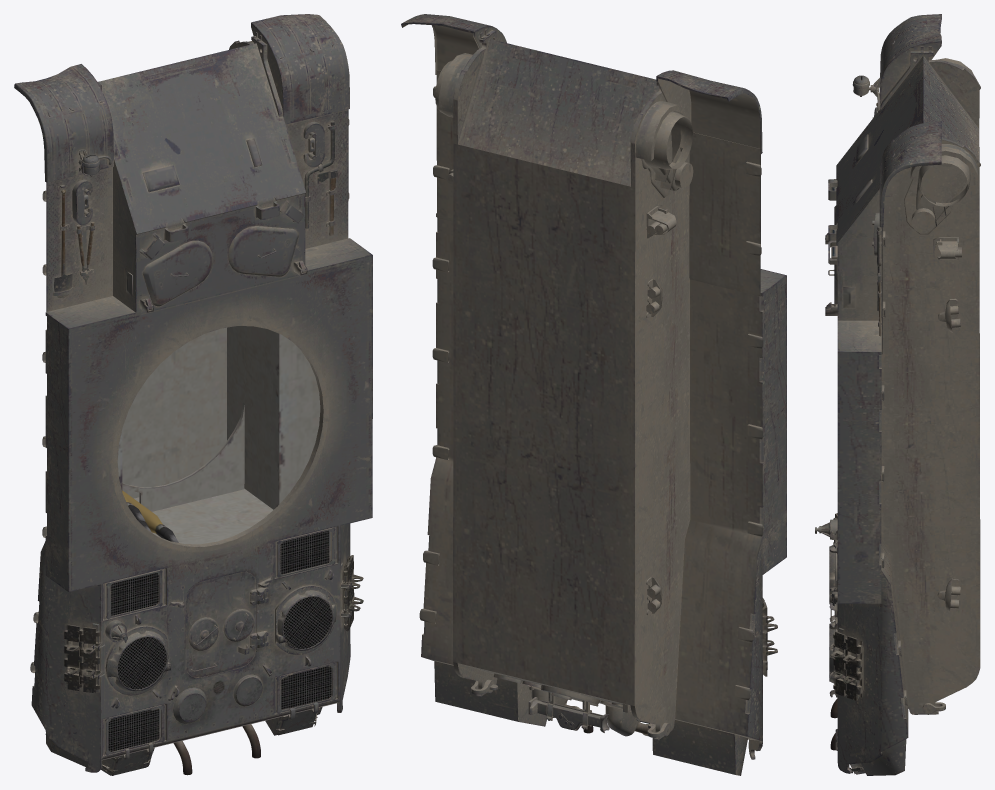
The model's file is Hull.glb.
The picture shows the model from 3 angles, left to right: view 1: azimuth 30°, elevation 25°; view 2: azimuth 150°, elevation 25°; view 3: azimuth 270°, elevation 25°; orthographic projection. The views are drawn at different scales.
Parts seen in each view (by area): view 1: set_0_group_0; view 2: set_0_group_0; view 3: set_0_group_0.
Boxes of the visible parts, <box> form: set_0_group_0: <box>14,14,372,775</box>; set_0_group_0: <box>401,14,786,775</box>; set_0_group_0: <box>815,14,980,775</box>.
Size of the model in its own units: 3.31 by 6.99 by 1.61.
1 material, 1 textured.
